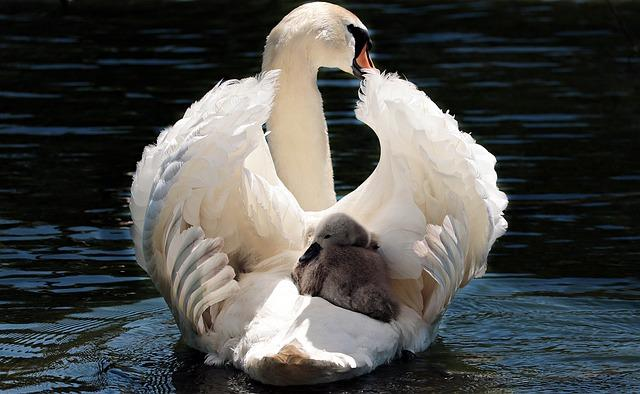bird: (129, 2, 507, 384)
